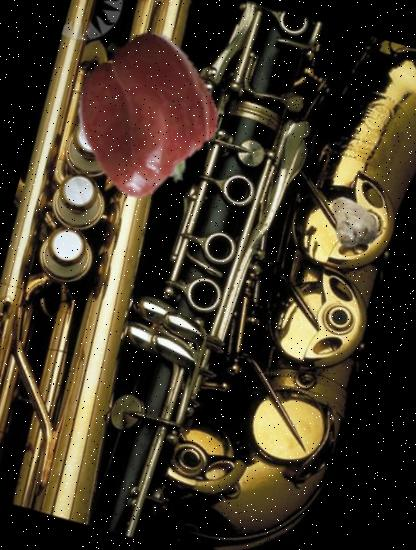Ginger: (314, 189, 386, 260)
Pepper: (52, 23, 235, 206)
